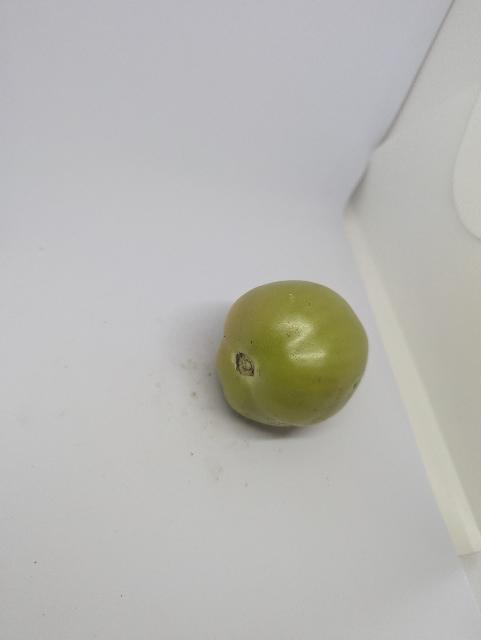green: (200, 260, 404, 464)
